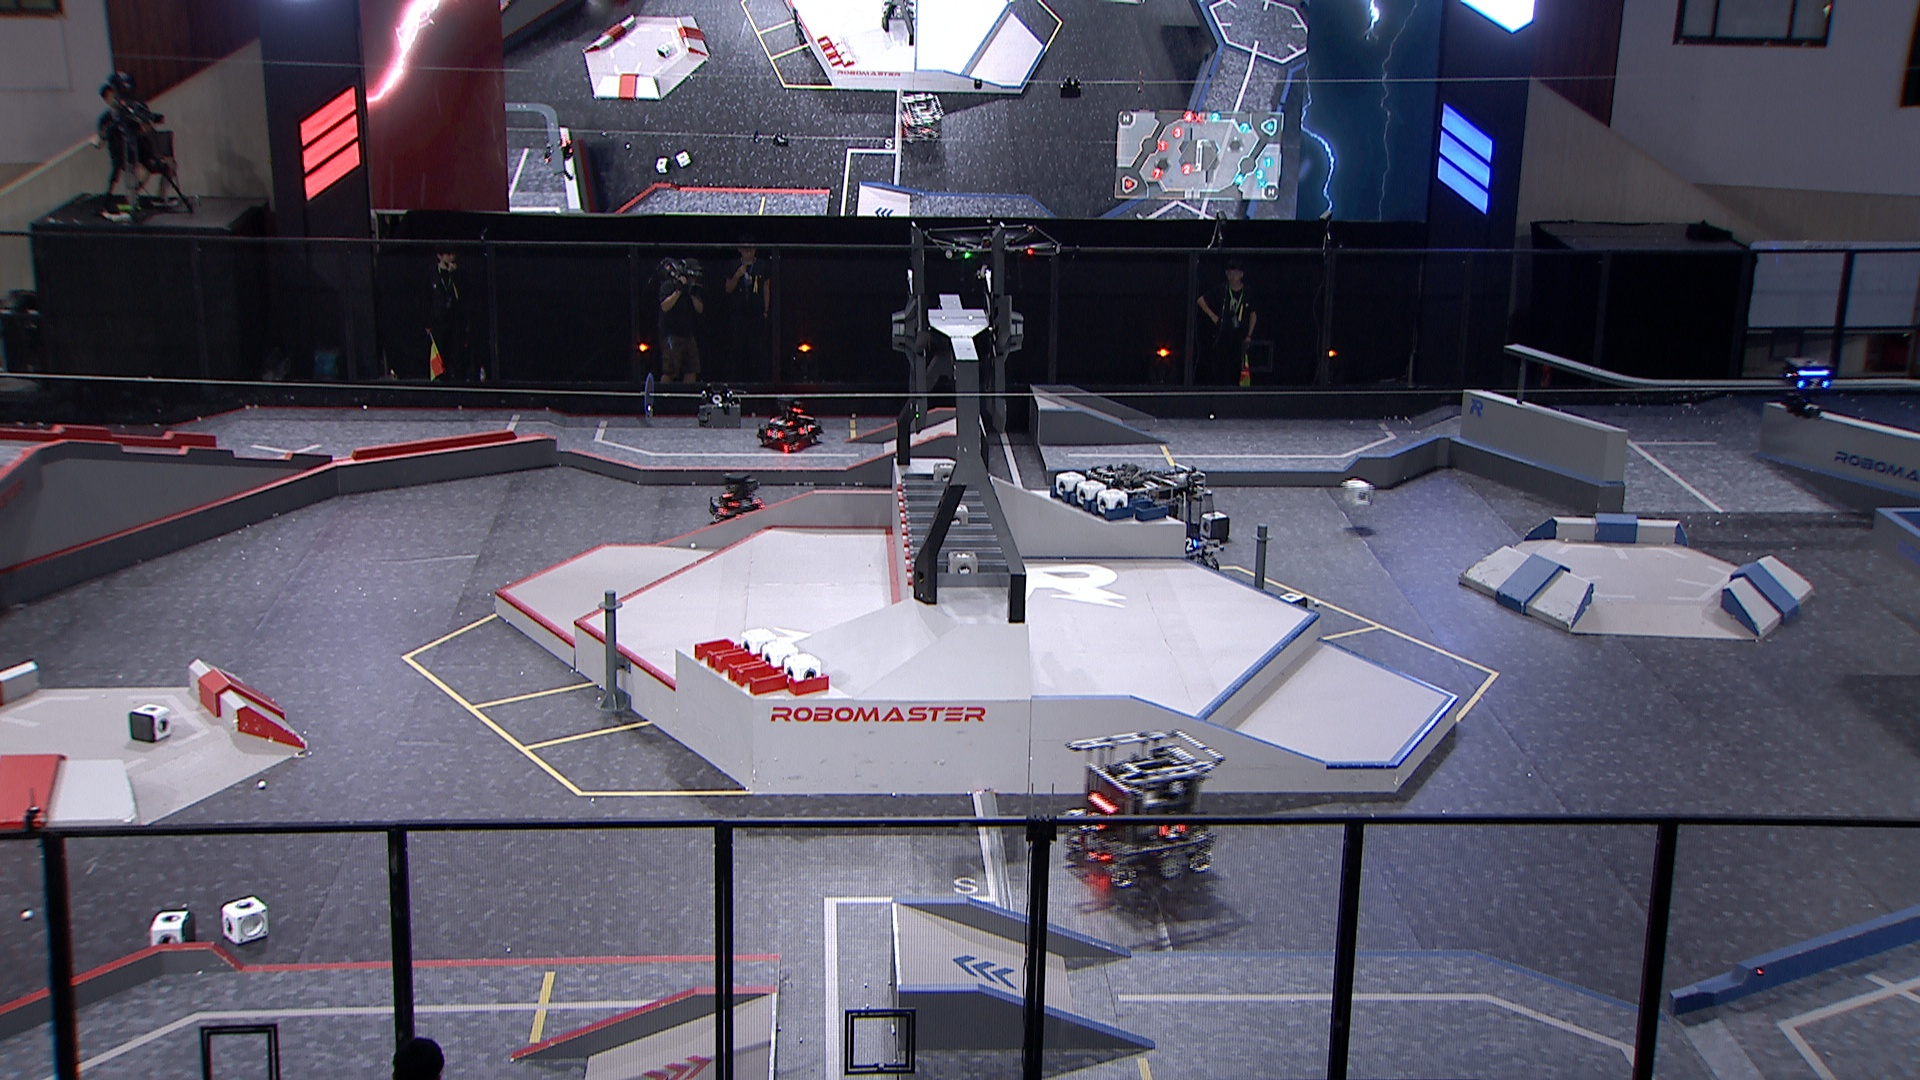armor: (1793, 376, 1833, 396), (1083, 808, 1112, 833), (1159, 818, 1185, 841), (727, 495, 761, 509), (765, 413, 794, 429), (764, 425, 787, 443), (1183, 534, 1201, 555), (795, 422, 814, 439)
car: (1058, 727, 1222, 885), (1105, 462, 1225, 588), (707, 471, 778, 531), (757, 401, 825, 455)
ignore: (897, 94, 945, 149), (542, 136, 579, 167)
watcher: (1784, 356, 1836, 423)
